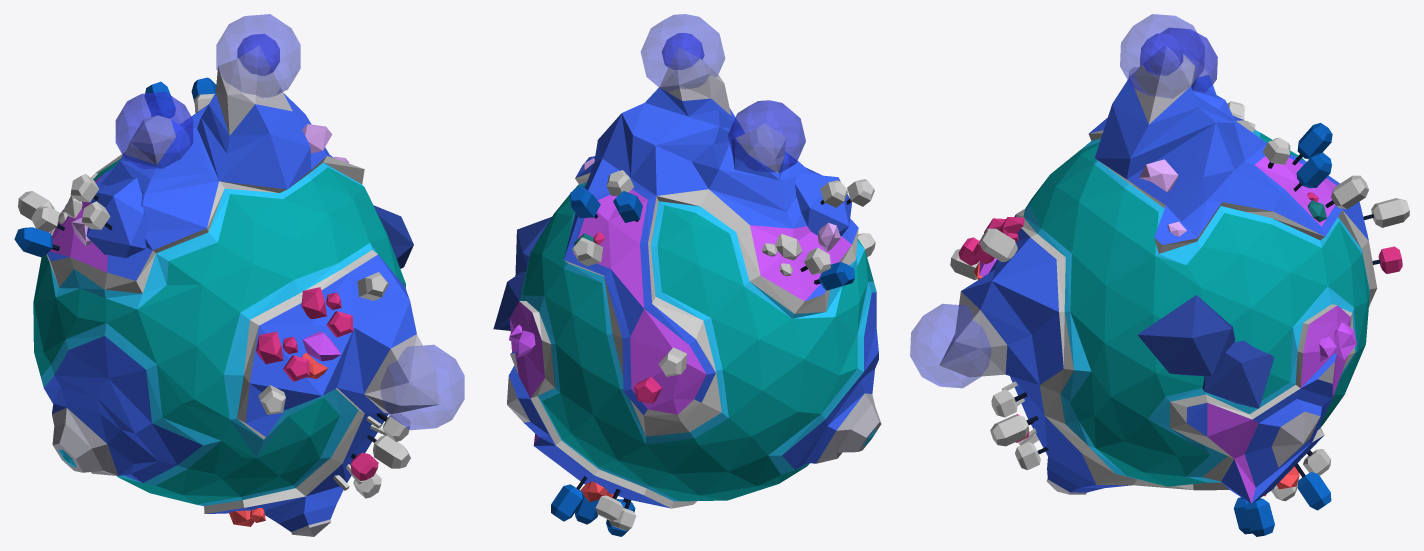
The model's file is watchC_planet07.dae.
The picture shows the model from 3 angles, left to right: view 1: azimuth 30°, elevation 25°; view 2: azimuth 150°, elevation 25°; view 3: azimuth 270°, elevation 25°; orthographic projection. The views are drawn at different scales.
Parts seen in each view (by area): view 1: mundo1-001; view 2: mundo1-001; view 3: mundo1-001.
Part boxes in pixels (x1=…): mundo1-001: x1=14, y1=14, x2=464, y2=536; mundo1-001: x1=493, y1=14, x2=881, y2=536; mundo1-001: x1=910, y1=14, x2=1409, y2=536.
Size of the model in its own units: 2.25 by 2.99 by 2.69.
